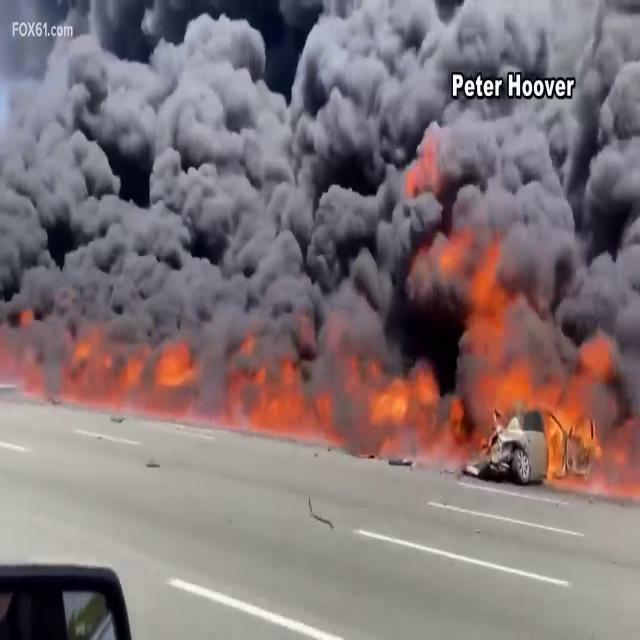Fire: (14, 324, 434, 443), (368, 332, 614, 482), (0, 306, 202, 406)
Smoke: (0, 1, 638, 352)
